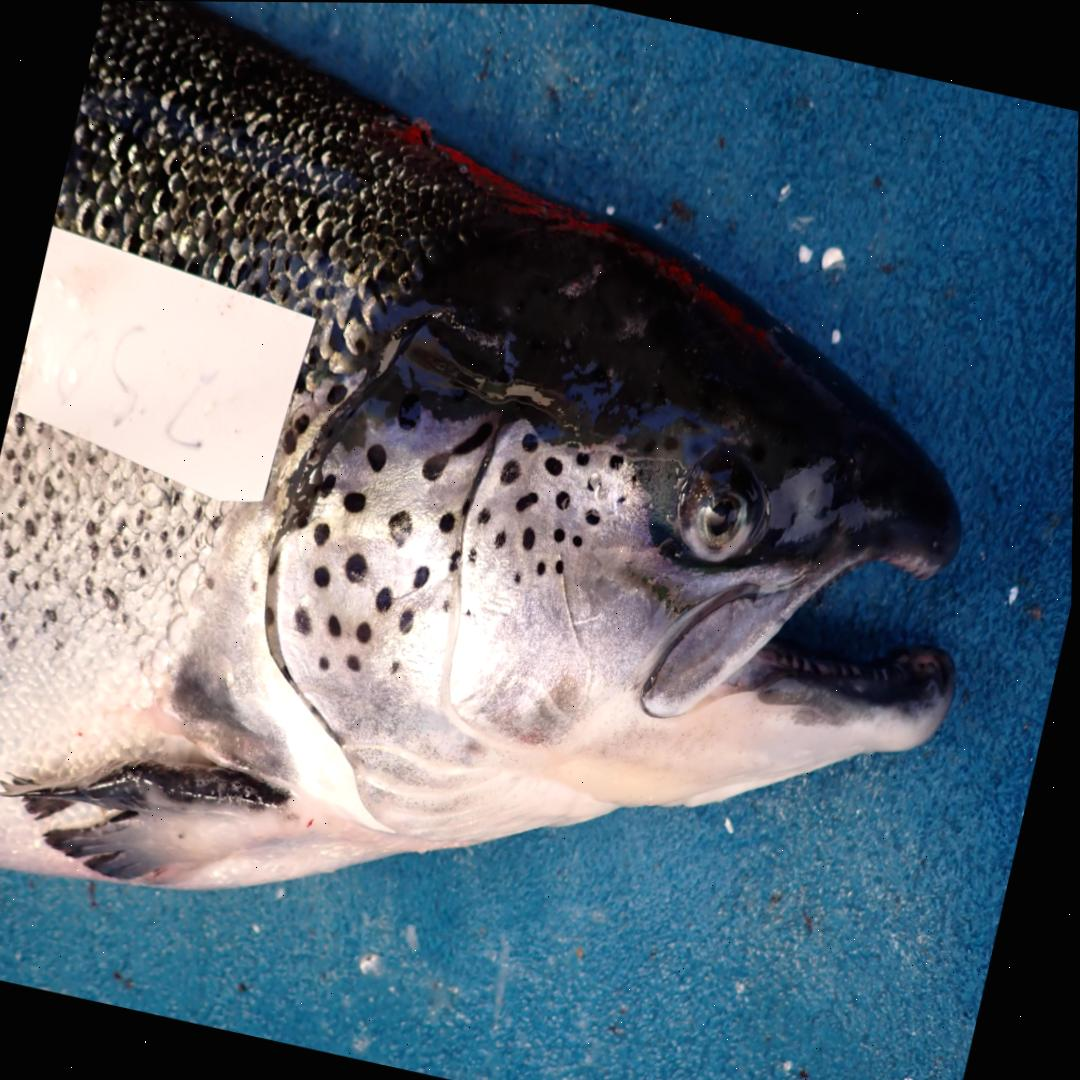spot: (423, 420, 493, 480), (389, 509, 413, 547), (398, 392, 422, 430), (346, 552, 369, 582), (367, 441, 387, 471), (317, 472, 337, 501), (343, 489, 367, 513), (501, 459, 521, 484), (516, 490, 539, 511), (376, 585, 394, 611), (296, 607, 313, 634), (313, 521, 332, 545), (413, 564, 431, 587), (545, 455, 564, 475), (314, 565, 331, 587), (400, 607, 415, 631), (522, 525, 537, 549), (440, 510, 457, 531), (522, 431, 539, 451), (357, 622, 372, 643), (328, 615, 342, 637), (449, 548, 462, 571), (587, 471, 603, 489), (556, 490, 570, 509), (347, 655, 362, 671), (468, 545, 481, 563), (270, 553, 281, 574), (586, 509, 601, 524), (576, 450, 590, 466), (609, 452, 623, 468), (297, 510, 310, 527), (496, 528, 507, 548), (267, 605, 277, 626), (479, 506, 491, 523), (554, 526, 567, 541), (462, 495, 472, 513), (320, 654, 331, 670), (537, 560, 547, 575), (555, 559, 565, 573), (573, 533, 583, 545), (392, 660, 402, 672), (617, 494, 626, 506), (516, 572, 522, 583), (444, 599, 450, 610), (633, 472, 638, 482), (467, 608, 471, 614)
